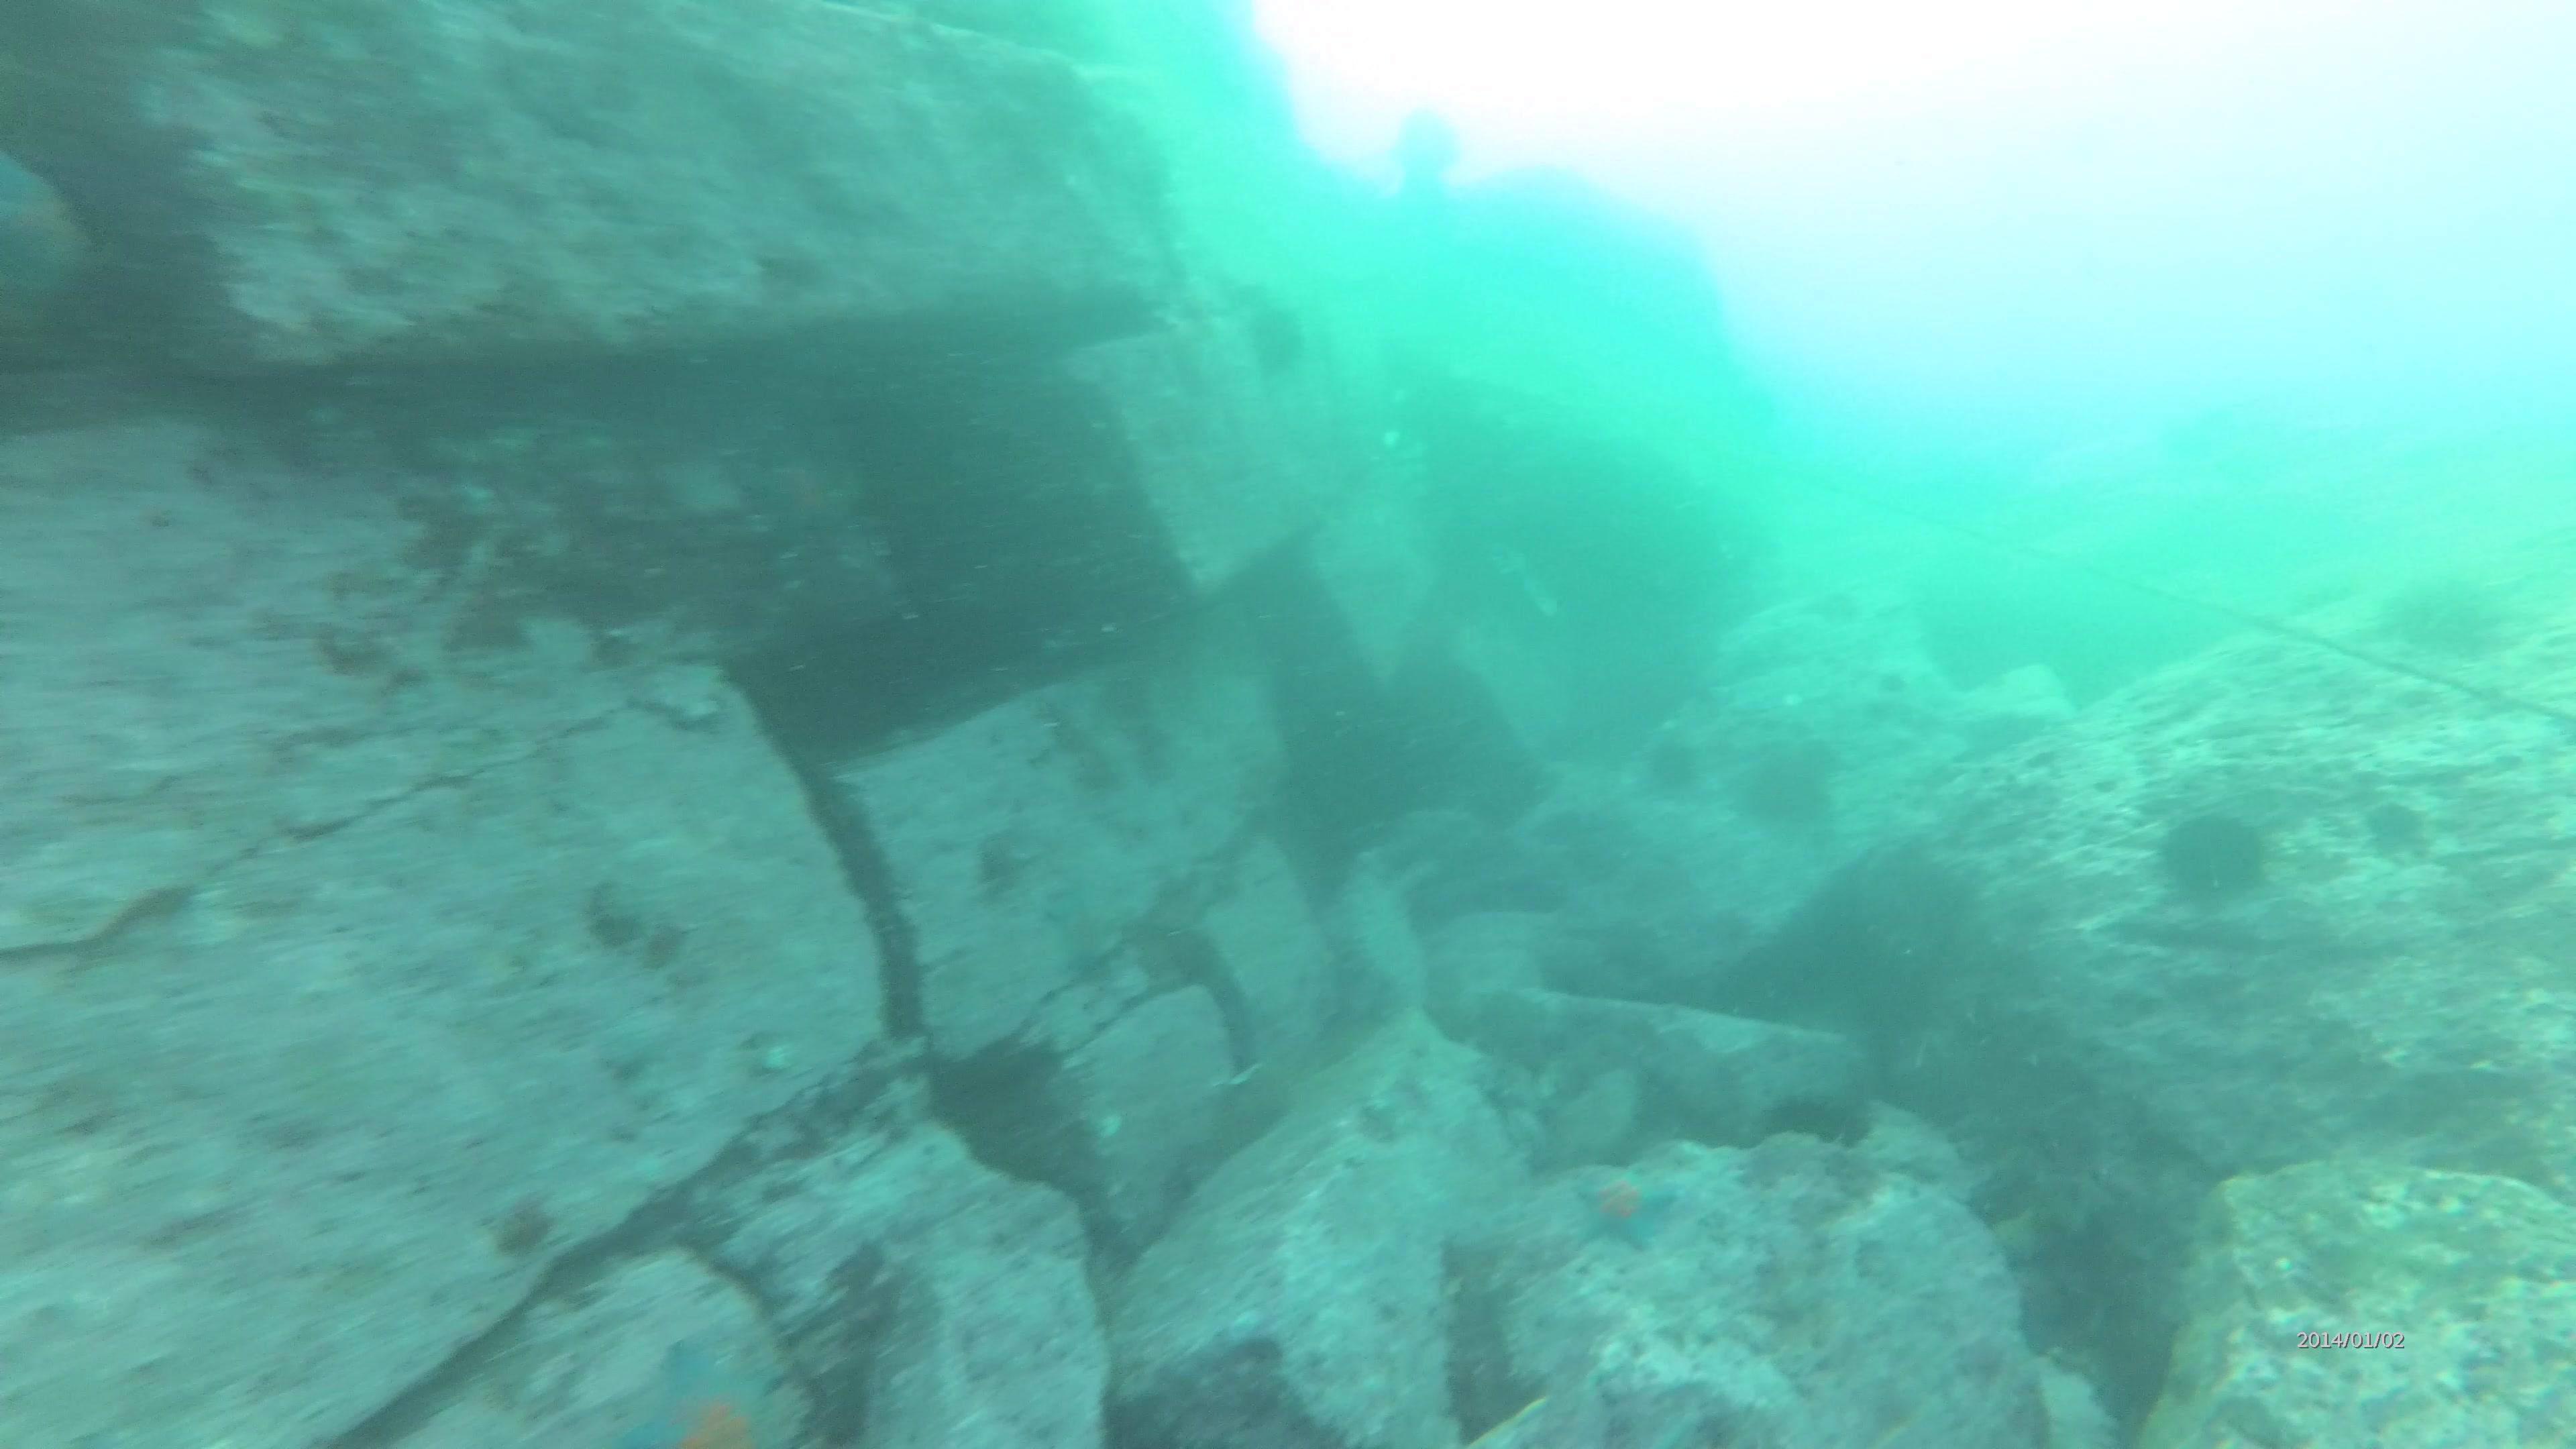echinus: (2164, 810, 2275, 909), (1246, 306, 1311, 384), (1647, 738, 1707, 796), (2371, 800, 2427, 851)
starfish: (607, 1348, 800, 1449), (1569, 1166, 1668, 1253)
